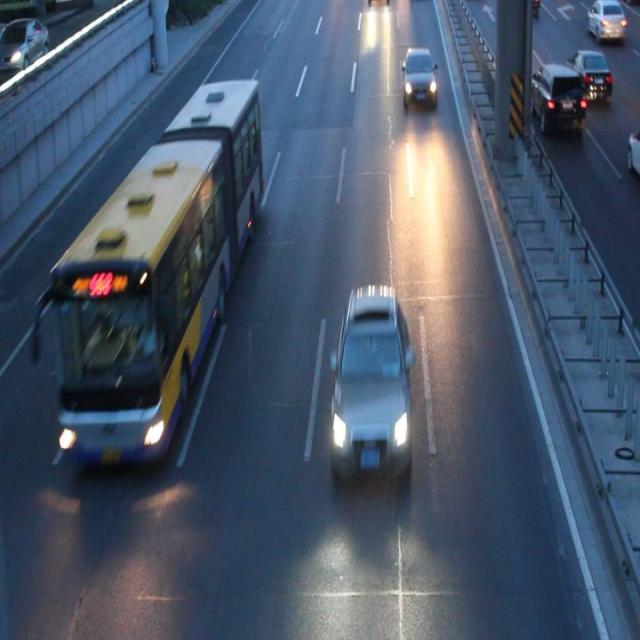car: (333, 286, 409, 475), (528, 64, 583, 126), (565, 52, 609, 96), (403, 48, 435, 104), (586, 1, 624, 39), (626, 123, 640, 181), (506, 2, 538, 15)
van: (56, 81, 260, 456)
